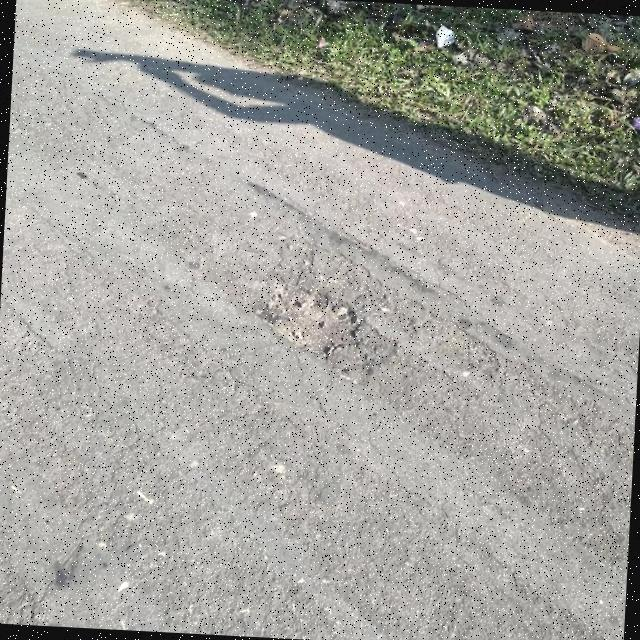Pothole: (255, 290, 395, 374)
